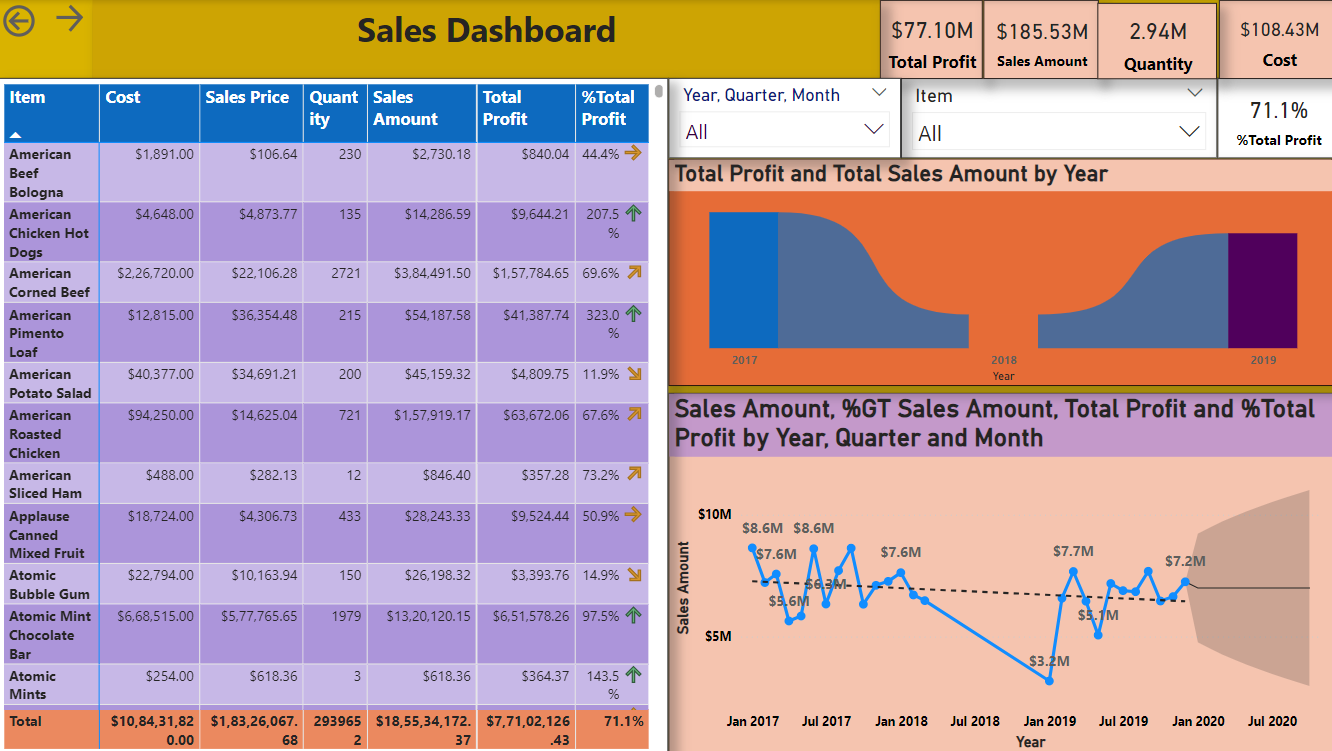

This screenshot's page, from the dashboard's own definition file:
{"tool":"powerbi","page":{"name":"Sales Dashboard","canvas":[1280,720],"ordinal":1},"visuals":[{"type":"slicer","fields":{"Values":["Sales_Details.Item"]},"box":[861.7,75.1,301.8,76.4],"z":0},{"type":"card","fields":{"Values":["ImpMeasures.Profits%"]},"box":[1164.8,75.1,115.2,76.4],"z":1000},{"type":"card","fields":{"Values":["ImpMeasures.Total Profit Margin"]},"box":[842.9,0,97.7,75.1],"z":2000},{"type":"card","fields":{"Values":["ImpMeasures.Cost"]},"box":[1166,0,114,75.1],"z":3000},{"type":"textbox","box":[90.2,0,752.7,75.1],"z":4000},{"type":"card","fields":{"Values":["ImpMeasures.Revenue"]},"box":[940.6,0,110.2,75.1],"z":5000},{"type":"lineChart","fields":{"Y":["ImpMeasures.Revenue Amount"],"Category":["Date.Date.Variation.Date Hierarchy.Year","Date.Date.Variation.Date Hierarchy.Quarter","Date.Date.Variation.Date Hierarchy.Month"]},"box":[640,375.7,640,344.4],"z":6000},{"type":"actionButton","box":[0,0,100,40],"z":7000},{"type":"card","fields":{"Values":["ImpMeasures.Quantity"]},"box":[1049.5,2.5,114,72.6],"z":8000},{"type":"ribbonChart","fields":{"Category":["Date.Date.Variation.Date Hierarchy.Year","Date.Date.Variation.Date Hierarchy.Quarter","Date.Date.Variation.Date Hierarchy.Month"],"Y":["ImpMeasures.Total Profit"]},"box":[640,151.5,637.5,216.7],"z":9000},{"type":"slicer","fields":{"Values":["Date.Date.Variation.Date Hierarchy.Year","Date.Date.Variation.Date Hierarchy.Quarter","Date.Date.Variation.Date Hierarchy.Month"]},"box":[640,75.1,221.7,76.4],"z":10000},{"type":"actionButton","box":[50,0,100,35],"z":11000},{"type":"pivotTable","fields":{"Values":["ImpMeasures.Cost","Sum(Sales_Details.Sales Price)","ImpMeasures.Quantity","ImpMeasures.Revenue","ImpMeasures.Profits","ImpMeasures.Profits%"],"Rows":["Sales_Details.Item"]},"box":[0,75.1,640,645],"z":12000}]}

Visuals, with their boxes in screenshot pixels (x1, y1, x2, y2), scaled from the page's 1280x720 canvas onto the 1332x751 screenshot:
slicer - Sales_Details.Item: Rect(897, 78, 1211, 158)
card - ImpMeasures.Profits%: Rect(1212, 78, 1331, 158)
card - ImpMeasures.Total Profit Margin: Rect(877, 0, 979, 78)
card - ImpMeasures.Cost: Rect(1213, 0, 1331, 78)
textbox: Rect(94, 0, 877, 78)
card - ImpMeasures.Revenue: Rect(979, 0, 1093, 78)
lineChart - ImpMeasures.Revenue Amount x Date.Date.Variation.Date Hierarchy.Year: Rect(666, 392, 1331, 750)
actionButton: Rect(0, 0, 104, 42)
card - ImpMeasures.Quantity: Rect(1092, 3, 1211, 78)
ribbonChart - Date.Date.Variation.Date Hierarchy.Year x Date.Date.Variation.Date Hierarchy.Quarter: Rect(666, 158, 1329, 384)
slicer - Date.Date.Variation.Date Hierarchy.Year x Date.Date.Variation.Date Hierarchy.Quarter: Rect(666, 78, 897, 158)
actionButton: Rect(52, 0, 156, 37)
pivotTable - ImpMeasures.Cost x Sum(Sales_Details.Sales Price): Rect(0, 78, 666, 750)
